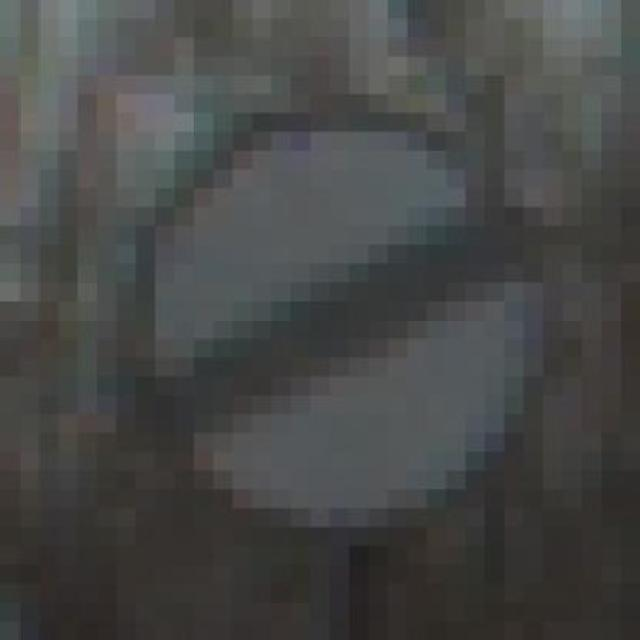End of all speed and passing limits: (116, 57, 562, 546)
